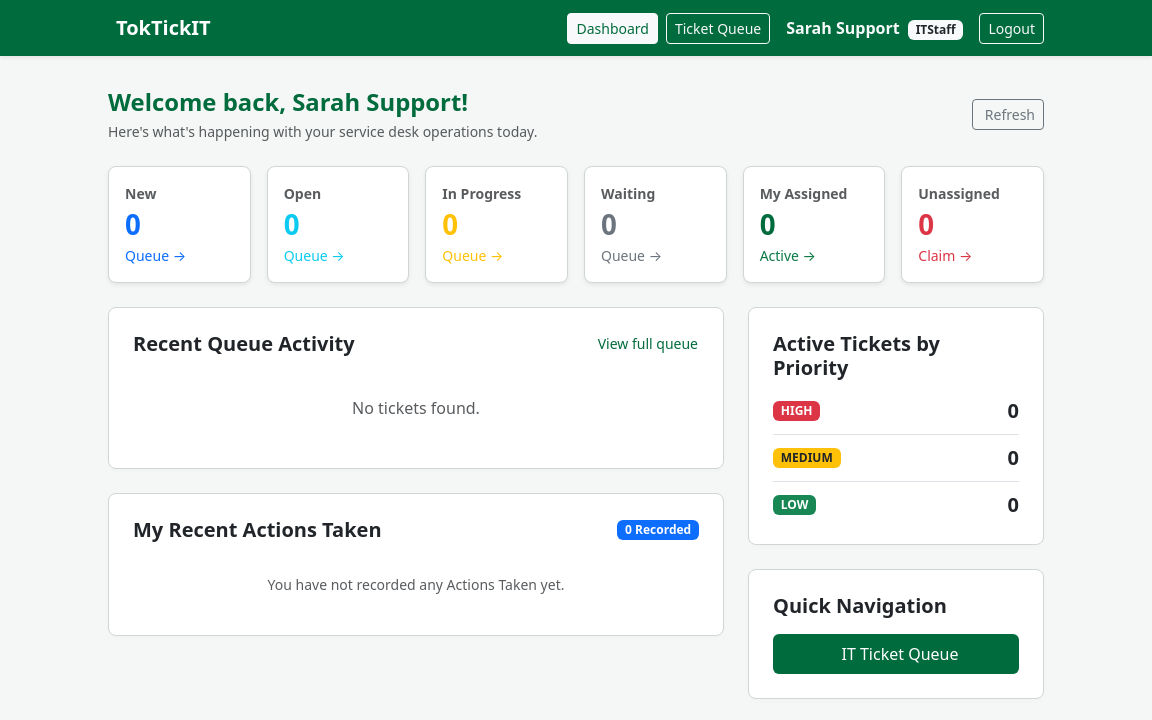
it: IT Staff Ticket Queue › renders the shared queue table when logged in as IT Staff
What coordinates should you click on to do the following:
click the button "Ticket Queue"
I would click on:
 (718, 28)
Its box is [666, 12, 770, 44].
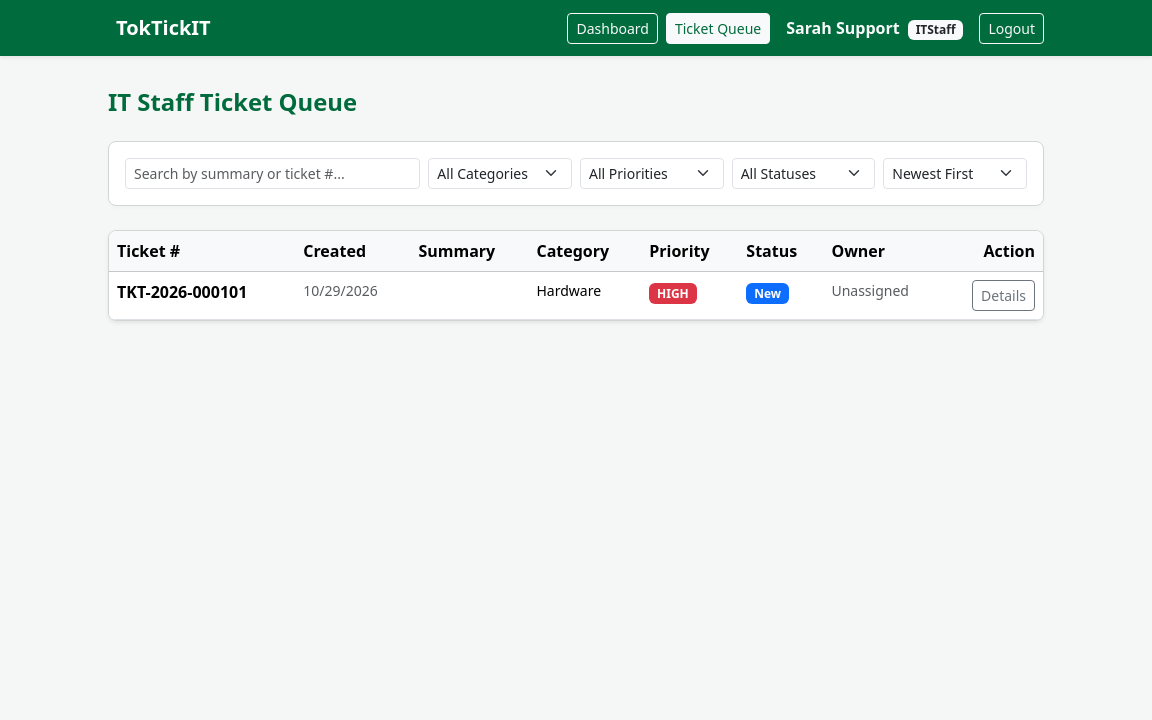
Result: the heading "IT Staff Ticket Queue" is shown at [108, 88, 357, 117]
Result: the text "TKT-2026-000101" is shown at [109, 271, 295, 319]
